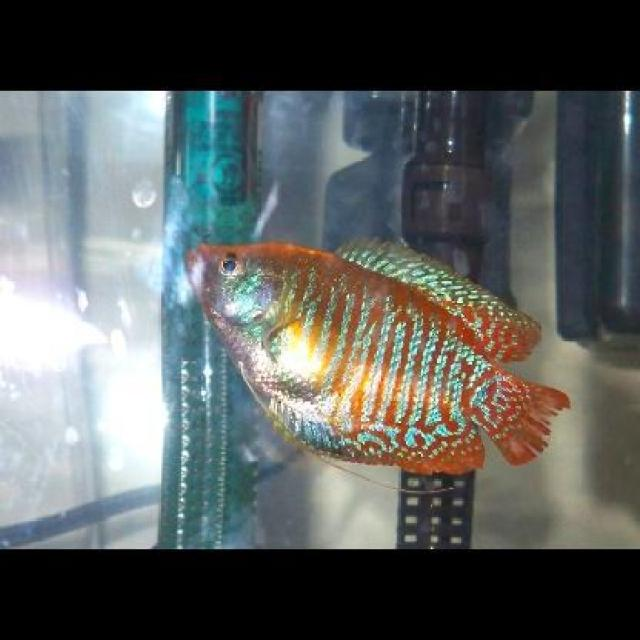Gourami: (190, 225, 570, 470)
